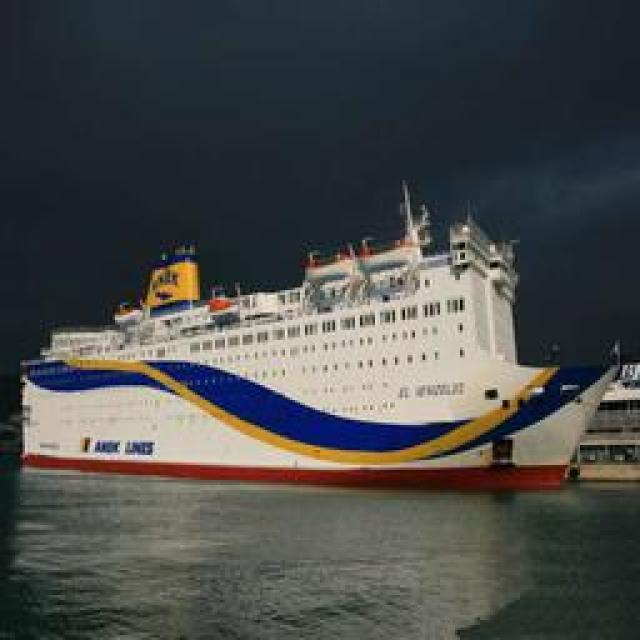CIV_Ship: (29, 214, 586, 476)
